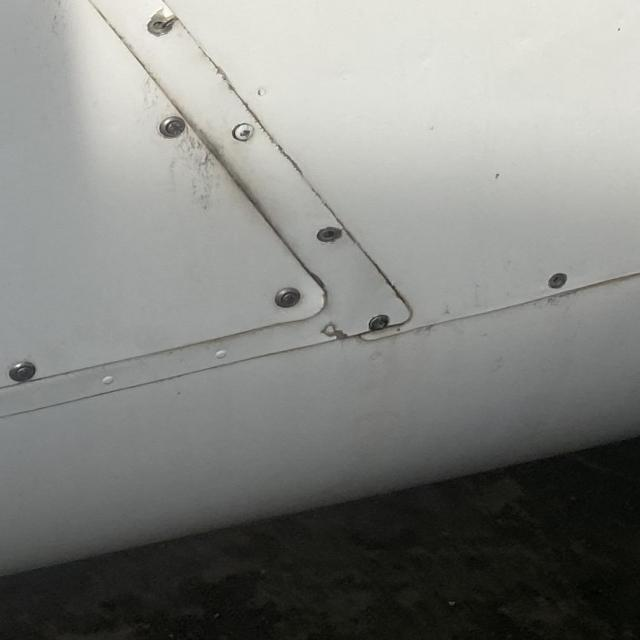Missing-head: (148, 13, 179, 37), (317, 226, 345, 244), (548, 273, 568, 291)
